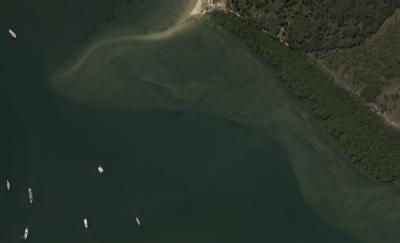Ships: (91, 146, 110, 177), (24, 182, 37, 212), (132, 210, 145, 234), (82, 214, 91, 232)
